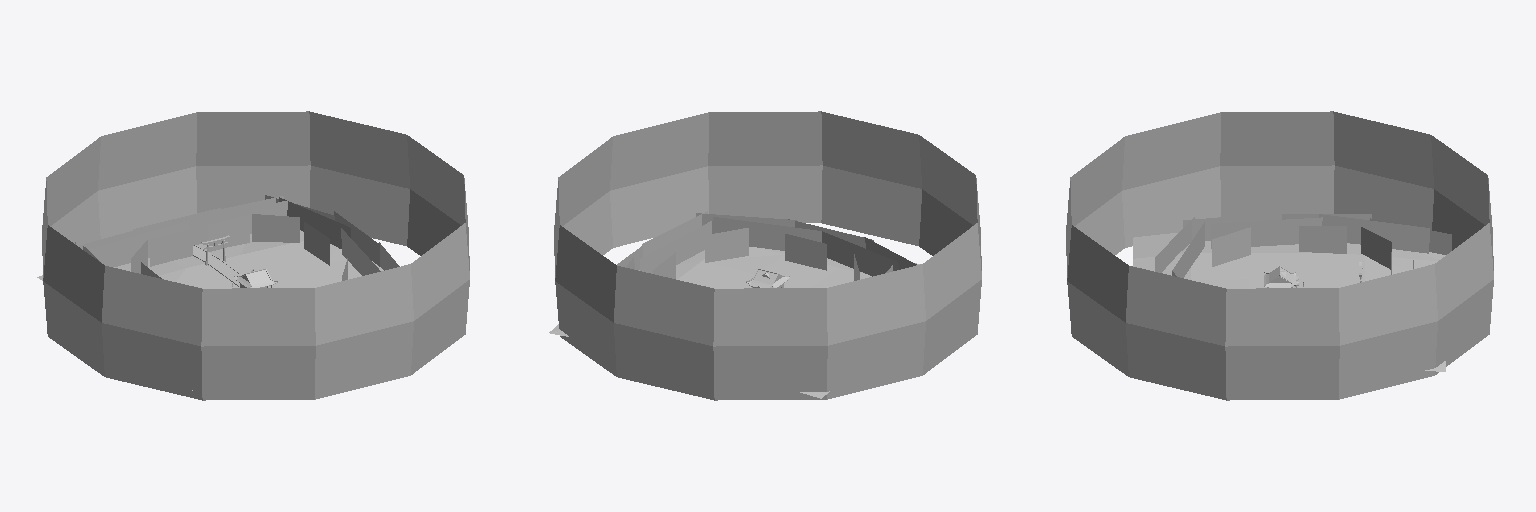
3 views of the same model, side by side, from view 1: azimuth 30°, elevation 25°; view 2: azimuth 150°, elevation 25°; view 3: azimuth 270°, elevation 25° (orthographic).
Visible parts, largest first — view 1: 博麗神社風ステージ_mesh_博麗神社風ステージ; view 2: 博麗神社風ステージ_mesh_博麗神社風ステージ; view 3: 博麗神社風ステージ_mesh_博麗神社風ステージ.
Boxes of the visible parts, <box> form: 博麗神社風ステージ_mesh_博麗神社風ステージ: <box>37,111,469,400</box>; 博麗神社風ステージ_mesh_博麗神社風ステージ: <box>549,111,981,400</box>; 博麗神社風ステージ_mesh_博麗神社風ステージ: <box>1066,111,1493,400</box>.
Bounding box in the file's own units: 218 × 62.74 × 218.